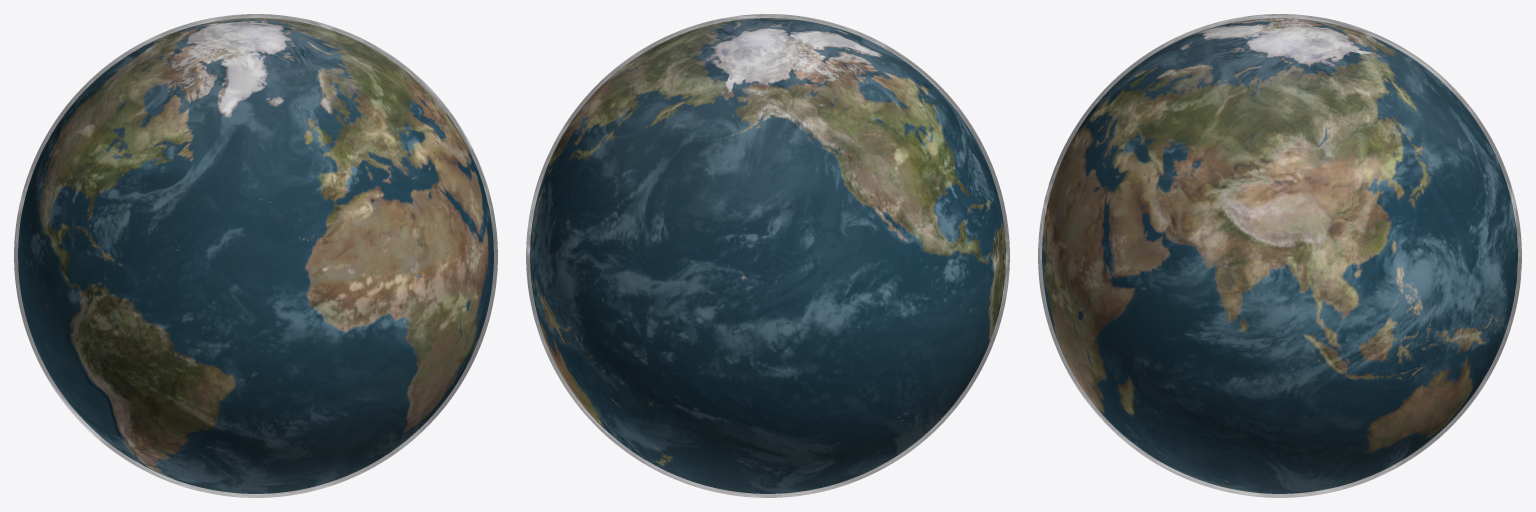
File: globe.glb
The picture shows the model from 3 angles, left to right: view 1: azimuth 30°, elevation 25°; view 2: azimuth 150°, elevation 25°; view 3: azimuth 270°, elevation 25°; orthographic projection.
Parts seen in each view (by area): view 1: Clouds, Earth; view 2: Clouds, Earth; view 3: Clouds, Earth.
Boxes of the visible parts, <box> form: Clouds: <box>14,14,497,497</box>; Earth: <box>18,18,493,493</box>; Clouds: <box>526,14,1009,497</box>; Earth: <box>530,18,1005,493</box>; Clouds: <box>1038,14,1521,497</box>; Earth: <box>1042,18,1517,493</box>.
Size of the model in its own units: 102 by 102 by 102.
2 materials, 2 textured.
